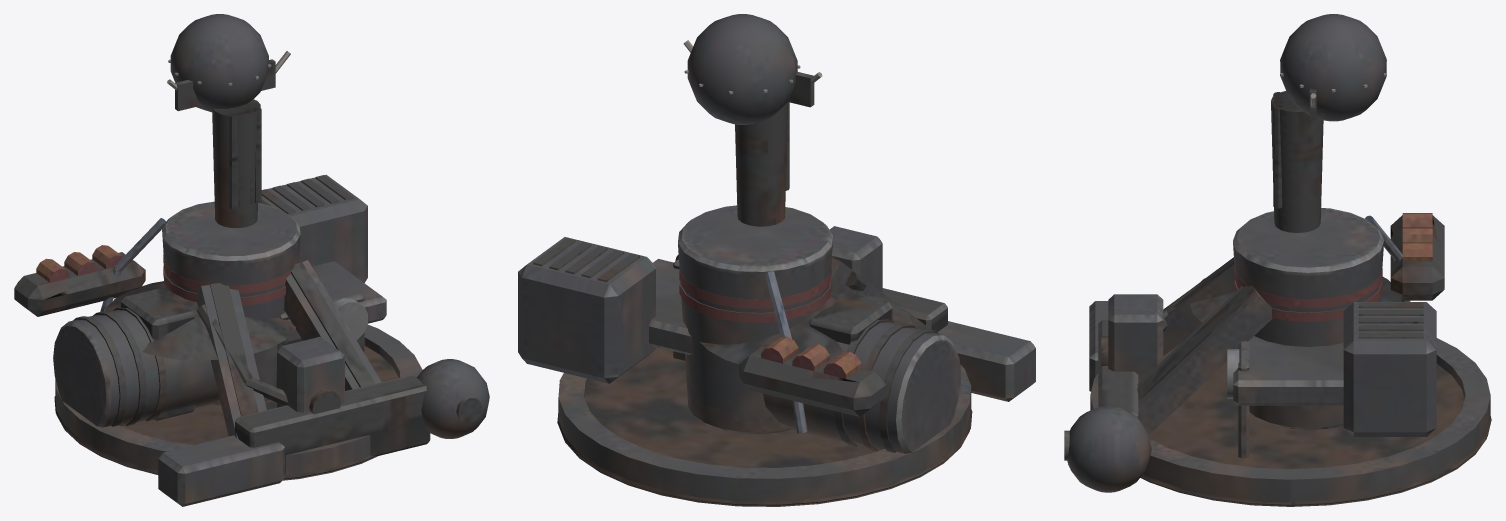
The model's file is tesla-turret.glb.
3 renders of one model, left to right at view 1: azimuth 30°, elevation 25°; view 2: azimuth 150°, elevation 25°; view 3: azimuth 270°, elevation 25°, orthographic. The views are drawn at different scales.
Parts seen in each view (by area): view 1: body, anim_turret_head; view 2: body, anim_turret_head; view 3: body, anim_turret_head.
Boxes of the visible parts, x1,y1,x2,y2 form: body: [14, 174, 489, 506]; anim_turret_head: [167, 14, 290, 227]; body: [518, 205, 1035, 506]; anim_turret_head: [683, 14, 822, 226]; body: [1064, 208, 1491, 506]; anim_turret_head: [1271, 14, 1386, 232].
Bounding box in the file's own units: 4.03 × 4.45 × 4.27.
1 material, 1 textured.
